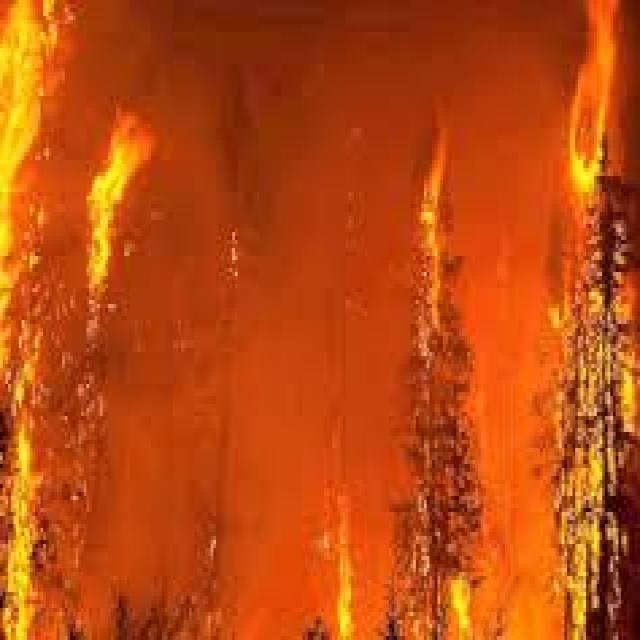Fire: (543, 252, 640, 640), (0, 0, 49, 636), (81, 115, 166, 310), (559, 0, 640, 204), (309, 517, 368, 640), (448, 564, 513, 640), (411, 128, 454, 215)
